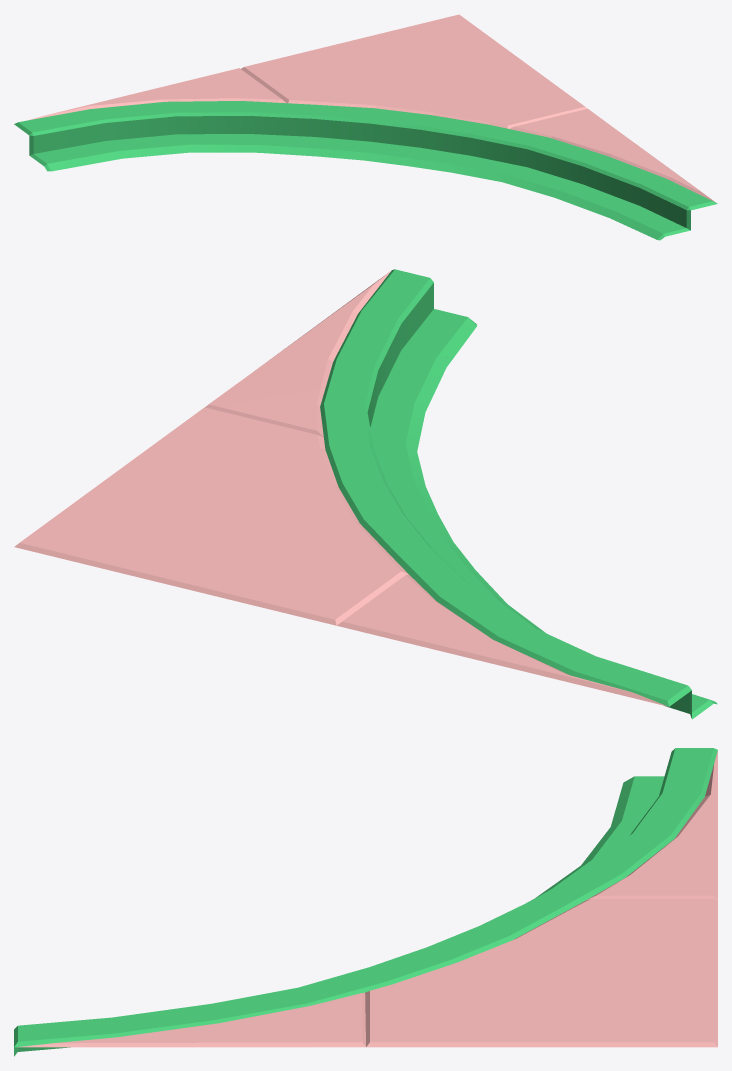
The model's file is mesh_Paving_Inner90Double_v1.3.fbx.
The picture shows the model from 3 angles, top to bottom: view 1: azimuth 30°, elevation 25°; view 2: azimuth 150°, elevation 25°; view 3: azimuth 270°, elevation 25°; orthographic projection. The views are drawn at different scales.
Visible parts, largest first — view 1: mesh_Paving_Inner90Double; view 2: mesh_Paving_Inner90Double; view 3: mesh_Paving_Inner90Double.
Boxes of the visible parts, x1,y1,x2,y2 form: mesh_Paving_Inner90Double: [14, 14, 717, 240]; mesh_Paving_Inner90Double: [14, 269, 717, 719]; mesh_Paving_Inner90Double: [14, 748, 717, 1056].
Size of the model in its own units: 200 by 10.77 by 200.
